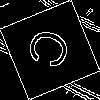C: (25, 25, 81, 76)
